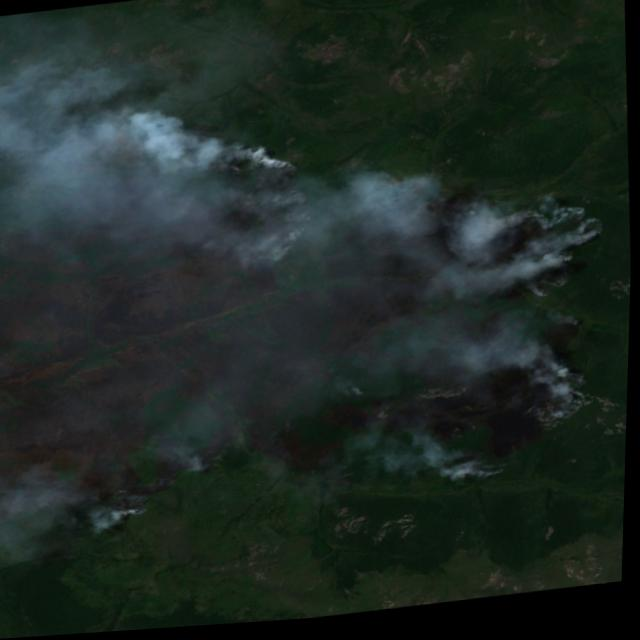fire: (418, 184, 624, 497), (204, 130, 332, 269), (80, 468, 188, 530)
